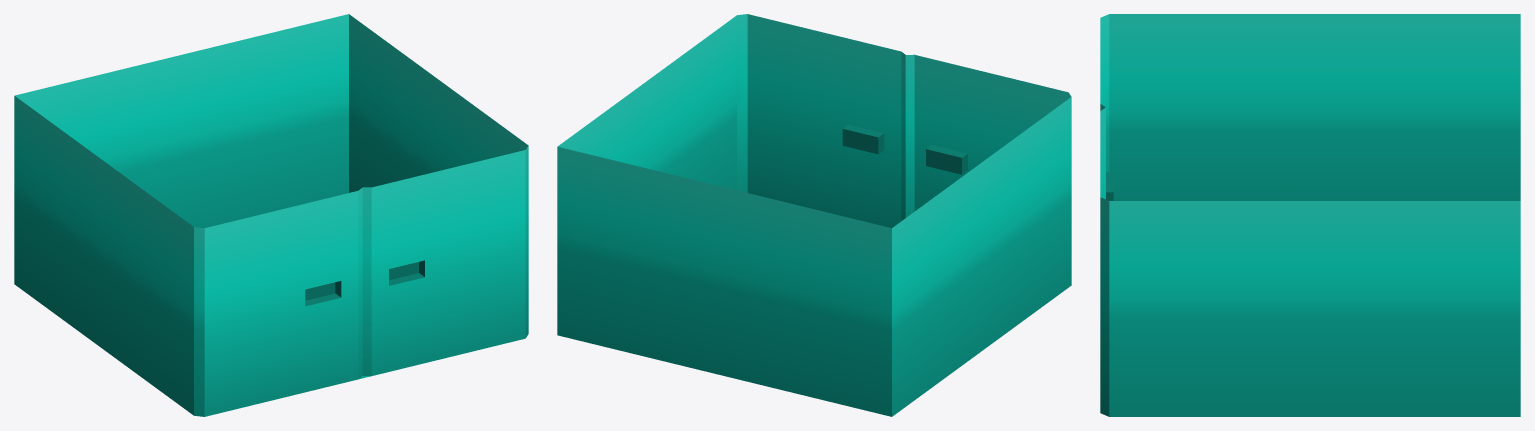
Rendered from Counter_01_v06_C05.fbx.
3 renders of one model, left to right at view 1: azimuth 30°, elevation 25°; view 2: azimuth 150°, elevation 25°; view 3: azimuth 270°, elevation 25°, orthographic. The views are drawn at different scales.
Parts seen in each view (by area): view 1: Counter_01_v06_C05; view 2: Counter_01_v06_C05; view 3: Counter_01_v06_C05.
Boxes of the visible parts, x1,y1,x2,y2 form: Counter_01_v06_C05: (14, 14, 528, 416); Counter_01_v06_C05: (557, 14, 1071, 416); Counter_01_v06_C05: (1100, 14, 1520, 416).
Size of the model in its own units: 100 by 53.91 by 94.97.
